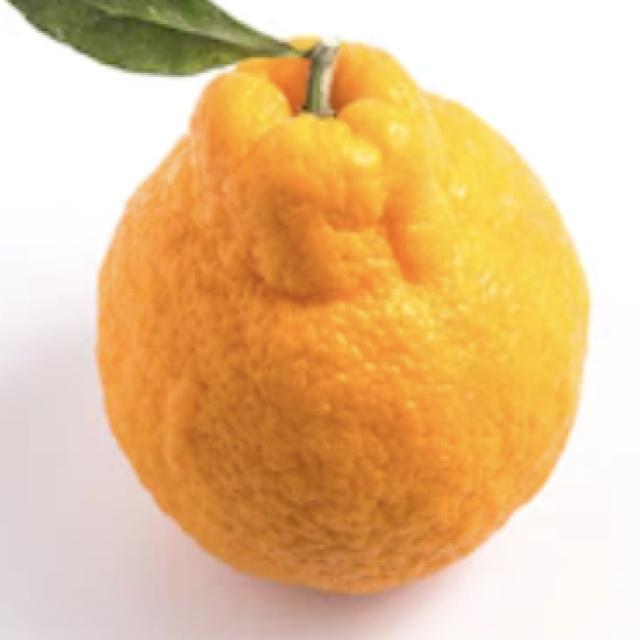Orange: (94, 34, 591, 596)
